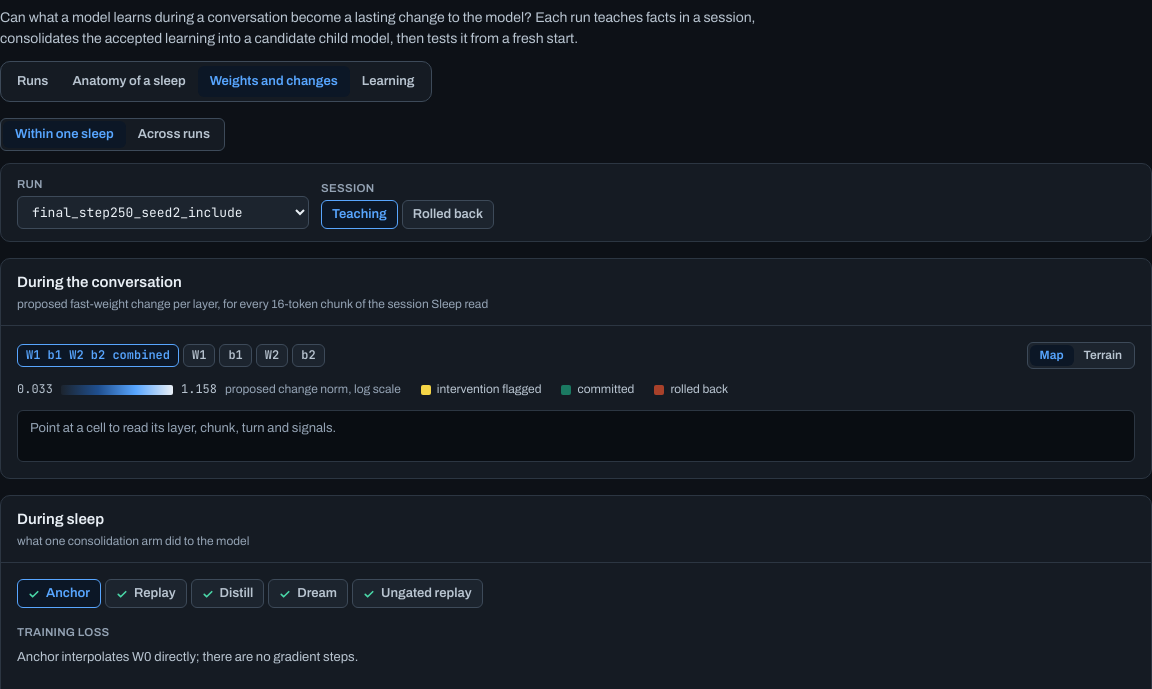
Test: weights and changes › lists every consolidation attempt across runs and marks checks that were not in force
Click the button "Across runs".
click(174, 134)  # box [126,121,222,148]
(page scrolled)
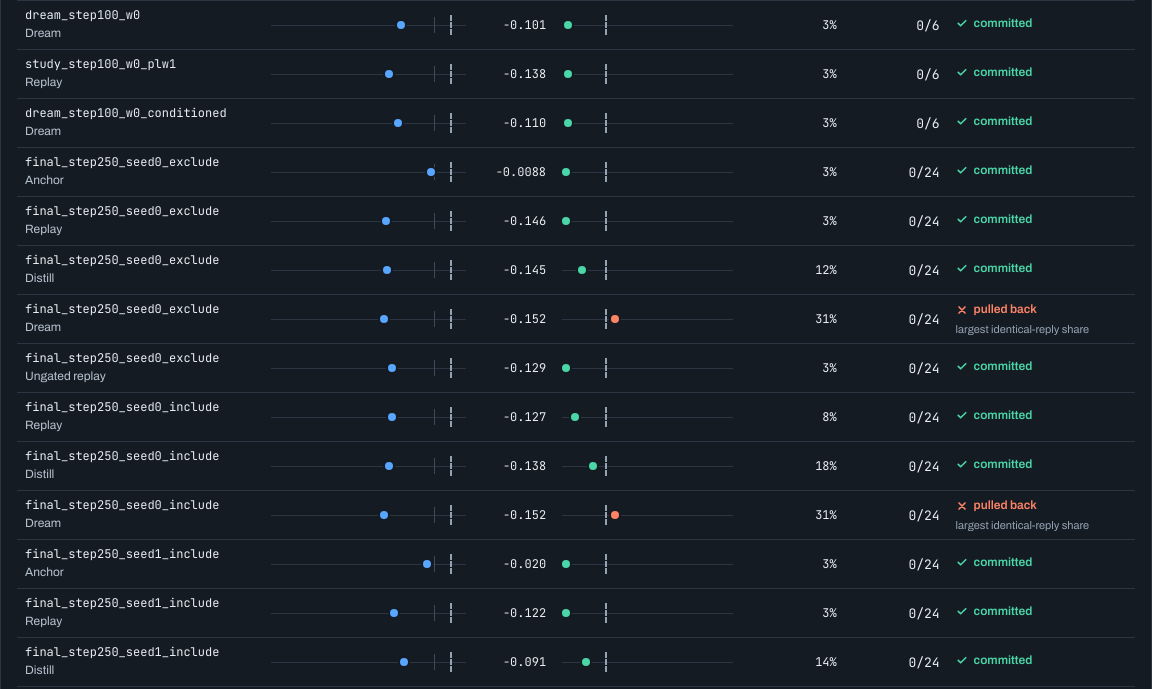
expect the text "committed" in the row of "−0.101" is shown: met, box [974,16,1032,30]
expect the 3rd text "committed" is shown: met, box [956,64,1032,81]
expect the text "committed" in the row of "−0.110" is shown: met, box [974,114,1032,128]
